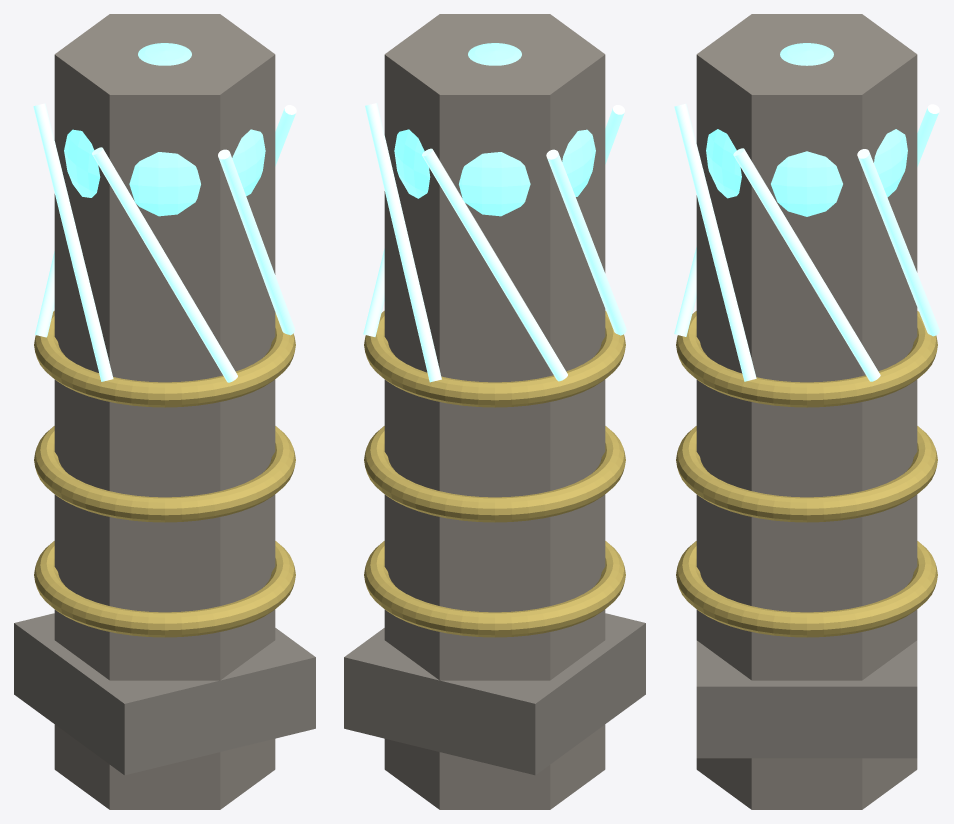
Rendered from electric_totem.glb.
The picture shows the model from 3 angles, left to right: view 1: azimuth 30°, elevation 25°; view 2: azimuth 150°, elevation 25°; view 3: azimuth 270°, elevation 25°; orthographic projection.
Visible parts, largest first — view 1: Cylinder, Cube, Torus, Torus.001, Sphere, Torus.002, Cylinder.004, Cylinder.005, Cylinder.006, Cylinder.003, Cylinder.001; view 2: Cylinder, Cube, Torus, Torus.001, Sphere, Torus.002, Cylinder.002, Cylinder.003, Cylinder.004, Cylinder.001, Cylinder.005; view 3: Cylinder, Cube, Torus, Torus.001, Sphere, Torus.002, Cylinder.006, Cylinder.001, Cylinder.002, Cylinder.005, Cylinder.003.
Part boxes in pixels (x1,y1,x2,y2): Cylinder: (54,14,275,809); Cube: (14,613,315,775); Torus: (34,541,295,637); Torus.001: (34,426,295,522); Sphere: (64,43,265,216); Torus.002: (34,311,295,407); Cylinder.004: (33,103,113,381); Cylinder.005: (92,147,237,382); Cylinder.006: (218,149,294,335); Cylinder.003: (35,251,54,337); Cylinder.001: (275,105,296,166); Cylinder: (384,14,605,809); Cube: (344,613,645,775); Torus: (364,541,625,637); Torus.001: (364,426,625,522); Sphere: (394,43,595,216); Torus.002: (364,311,625,407); Cylinder.002: (365,103,441,382); Cylinder.003: (422,148,567,381); Cylinder.004: (546,149,626,335); Cylinder.001: (363,248,384,336); Cylinder.005: (605,105,624,164); Cylinder: (696,14,917,809); Cube: (696,640,917,758); Torus: (676,541,937,637); Torus.001: (676,426,937,522); Sphere: (706,43,907,216); Torus.002: (676,311,937,407); Cylinder.006: (674,103,756,381); Cylinder.001: (733,148,880,381); Cylinder.002: (857,149,939,336); Cylinder.005: (674,247,696,336); Cylinder.003: (917,104,939,166).
Bounding box in the file's own units: 0.2478 × 0.7501 × 0.2512.
